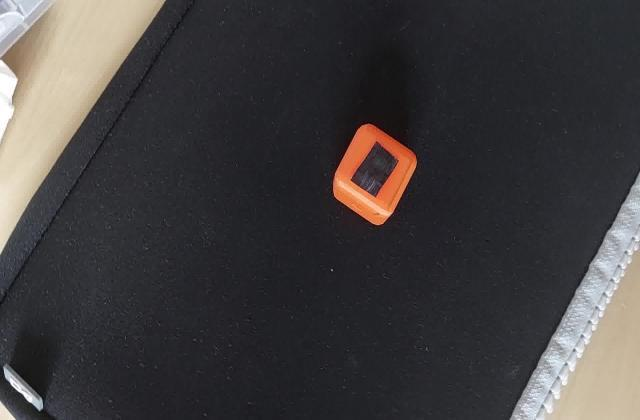black: (346, 142, 404, 196)
sticker: (328, 120, 419, 230)
